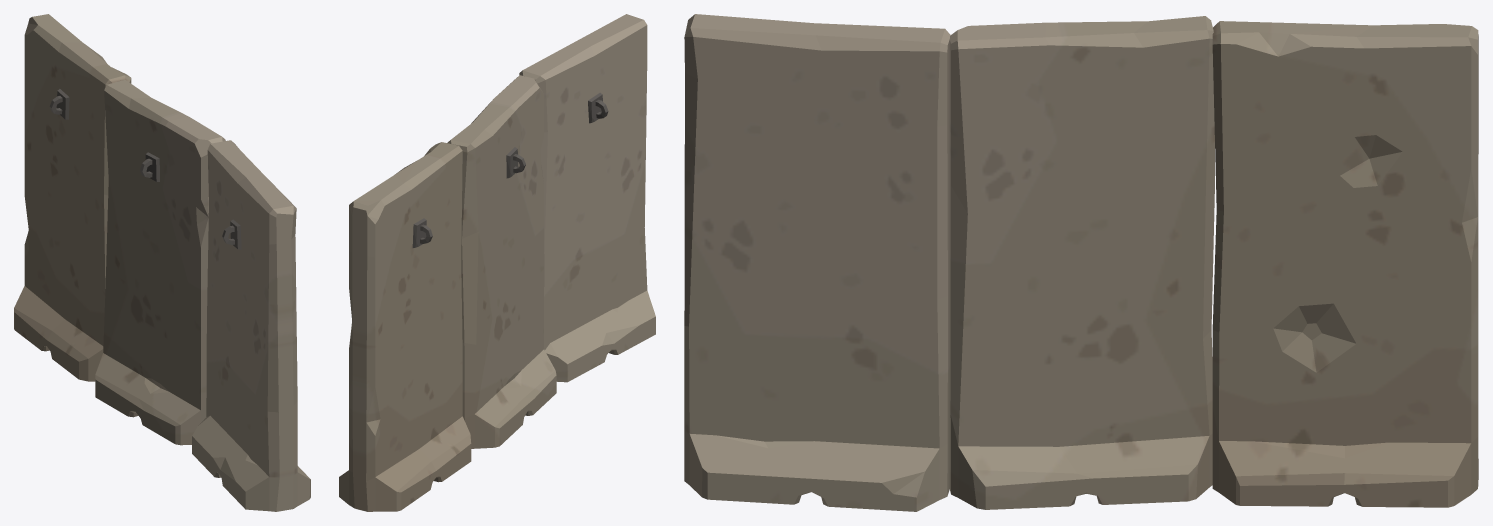
Rendered from SM_Prop_Barrier_Tall_Group_02.glb.
3 renders of one model, left to right at view 1: azimuth 30°, elevation 25°; view 2: azimuth 150°, elevation 25°; view 3: azimuth 270°, elevation 25°, orthographic. The views are drawn at different scales.
Visible parts, largest first — view 1: SM_Prop_Barrier_Tall_Group_02; view 2: SM_Prop_Barrier_Tall_Group_02; view 3: SM_Prop_Barrier_Tall_Group_02.
Boxes of the visible parts, x1,y1,x2,y2 form: SM_Prop_Barrier_Tall_Group_02: [14, 14, 310, 511]; SM_Prop_Barrier_Tall_Group_02: [339, 14, 655, 511]; SM_Prop_Barrier_Tall_Group_02: [684, 14, 1478, 511].
Bounding box in the file's own units: 0.8862 × 3.26 × 5.16.
Materials: 1 (1 with a texture image).
